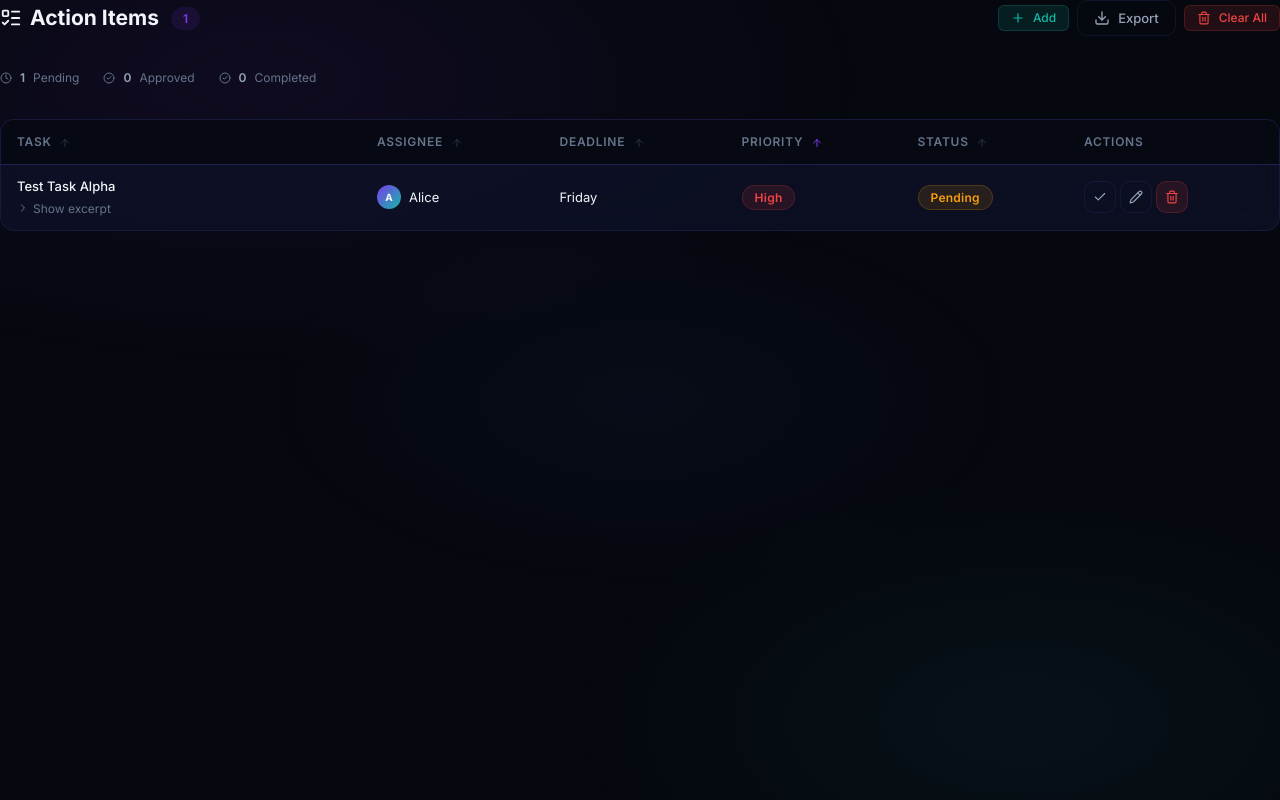
Test: TaskTable › opens add task modal when clicking Add
The width and height of the screenshot is (1280, 800).
Click the button "Add" at [1034, 18], box [998,5,1069,32]
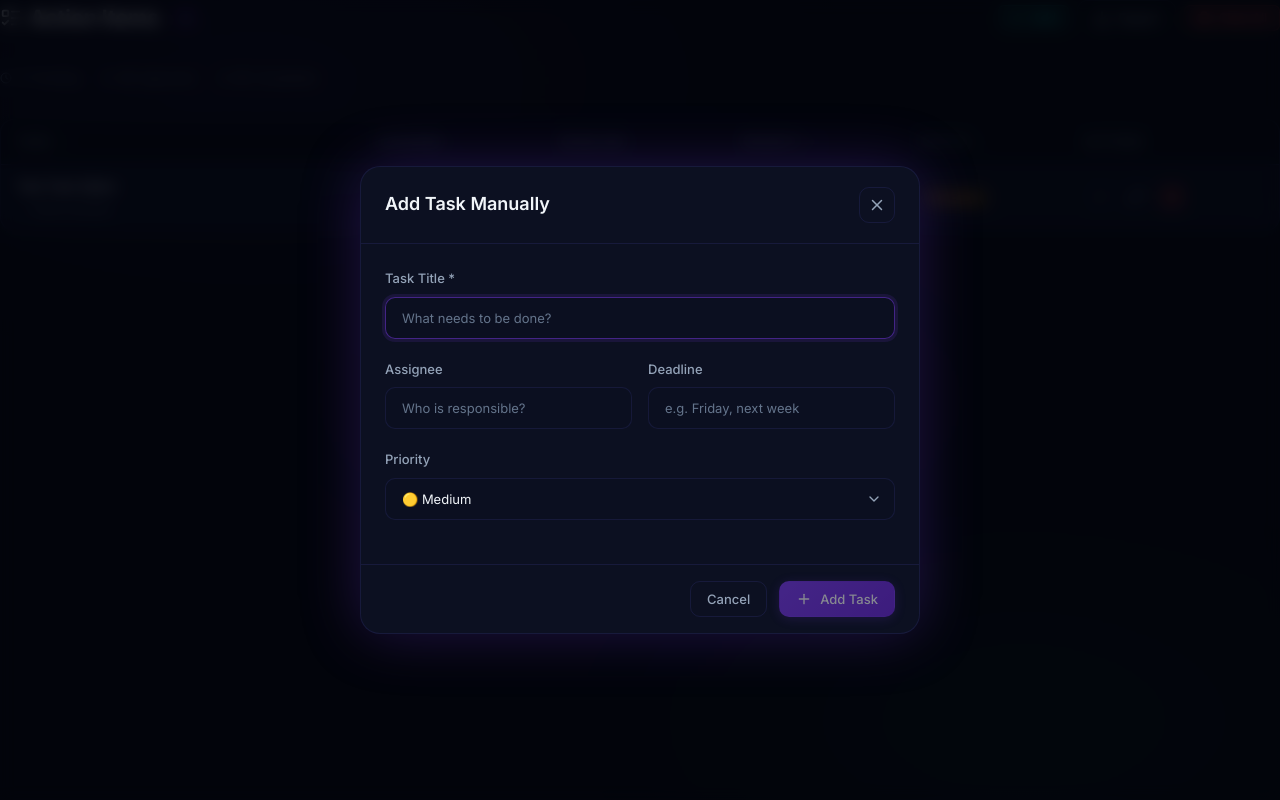
Check: the heading "Add Task Manually" is shown, box [385,190,550,219]
